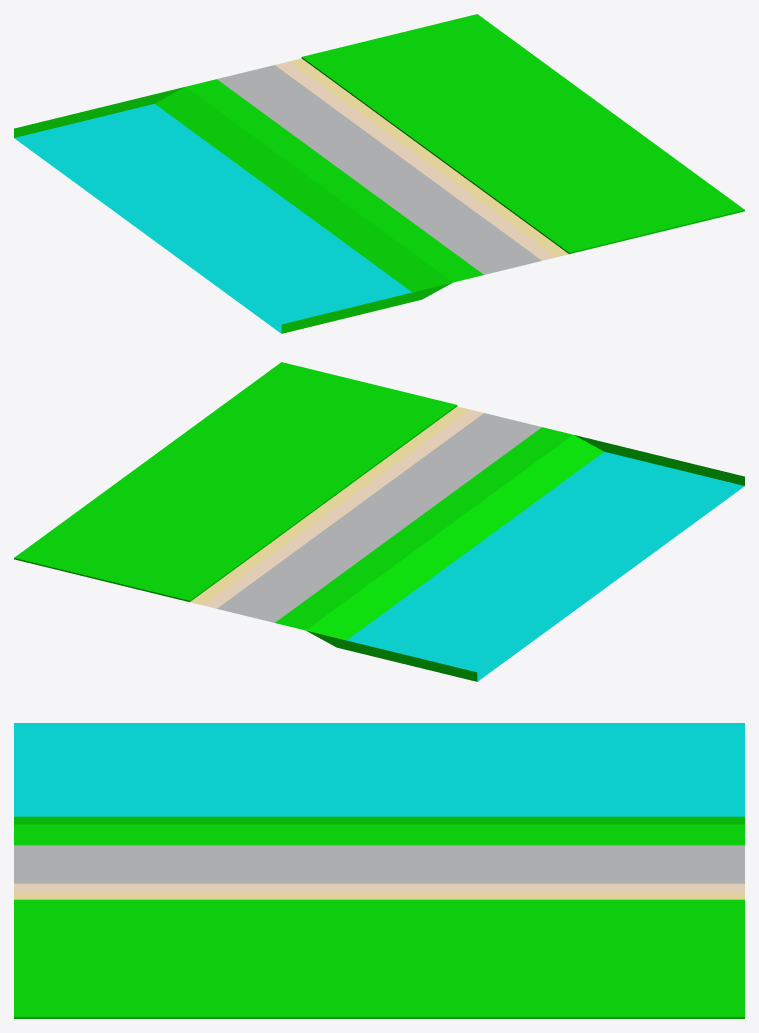
Rendered from map07.gltf.
3 views of the same model, one above another, from view 1: azimuth 30°, elevation 25°; view 2: azimuth 150°, elevation 25°; view 3: azimuth 270°, elevation 25° (orthographic). The views are drawn at different scales.
Parts seen in each view (by area): view 1: Node12, Node9, Node8, Node6, Node1, Node4, Node5, Node3, Node2, Node11, Node7, Node10 (+1 smaller); view 2: Node12, Node9, Node8, Node6, Node1, Node4, Node5, Node3, Node2, Node11, Node10, Node7 (+1 smaller); view 3: Node12, Node9, Node6, Node2, Node1, Node3, Node4, Node5, Node8, Node11, Node16.
Part boxes in pixels (<box>): Node12: <box>302,14,744,252</box>; Node9: <box>14,104,412,333</box>; Node8: <box>155,86,452,292</box>; Node6: <box>186,79,483,282</box>; Node1: <box>231,72,512,271</box>; Node4: <box>217,75,498,274</box>; Node5: <box>260,65,541,264</box>; Node3: <box>246,68,527,267</box>; Node2: <box>275,61,555,260</box>; Node11: <box>289,58,568,257</box>; Node7: <box>281,282,452,333</box>; Node10: <box>14,87,184,137</box>; Node12: <box>14,362,456,600</box>; Node9: <box>346,452,744,681</box>; Node8: <box>306,434,603,640</box>; Node6: <box>275,427,572,630</box>; Node1: <box>246,420,527,619</box>; Node4: <box>260,423,541,622</box>; Node5: <box>217,413,498,612</box>; Node3: <box>231,416,512,615</box>; Node2: <box>203,409,483,608</box>; Node11: <box>190,406,469,605</box>; Node10: <box>306,630,477,681</box>; Node7: <box>574,435,744,485</box>; Node12: <box>14,899,744,1016</box>; Node9: <box>14,723,744,816</box>; Node6: <box>14,824,744,845</box>; Node2: <box>14,883,744,893</box>; Node1: <box>14,855,744,864</box>; Node3: <box>14,864,744,873</box>; Node4: <box>14,845,744,854</box>; Node5: <box>14,874,744,883</box>; Node8: <box>14,816,744,824</box>; Node11: <box>14,893,744,899</box>; Node16: <box>14,1017,744,1018</box>.
Bounding box in the file's own units: 2139194 × 48459 × 2139194.
